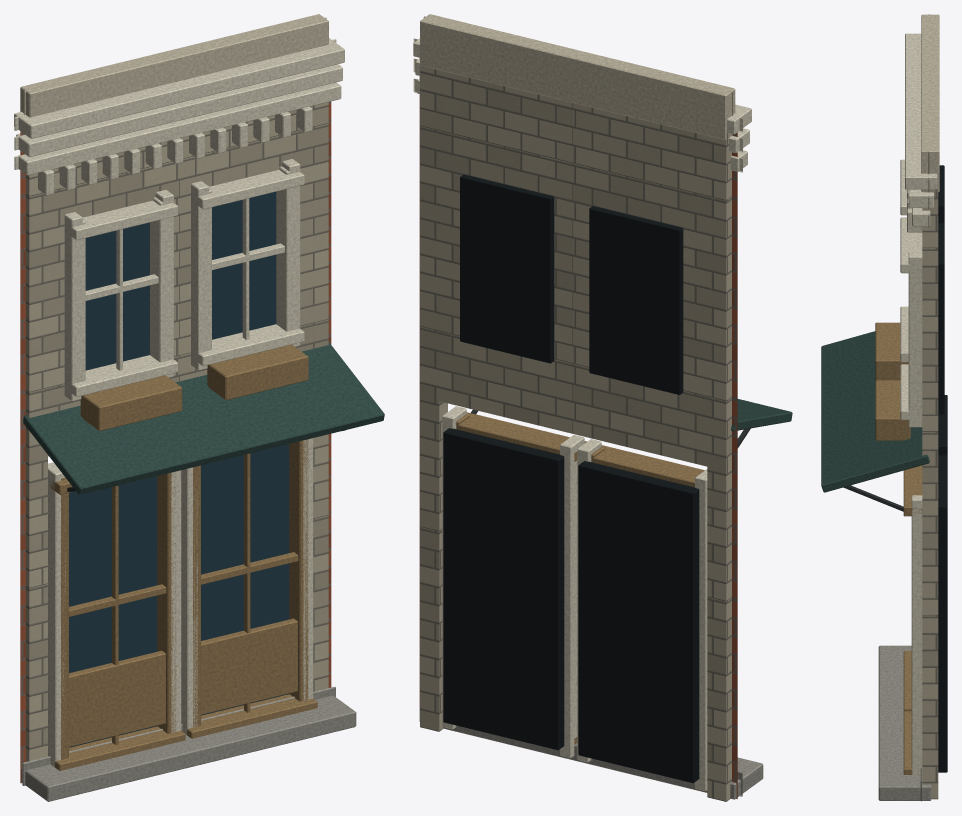
File: BUSS8_lod1.glb
3 renders of one model, left to right at view 1: azimuth 30°, elevation 25°; view 2: azimuth 150°, elevation 25°; view 3: azimuth 270°, elevation 25°, orthographic. The views are drawn at different scales.
Parts seen in each view (by area): view 1: BUSS8_FRONT_LOD1; view 2: BUSS8_FRONT_LOD1; view 3: BUSS8_FRONT_LOD1.
Part boxes in pixels (x1=…): BUSS8_FRONT_LOD1: x1=14, y1=14, x2=384, y2=801; BUSS8_FRONT_LOD1: x1=413, y1=14, x2=792, y2=801; BUSS8_FRONT_LOD1: x1=821, y1=14, x2=947, y2=801.
Bounding box in the file's own units: 3.44 × 7.05 × 1.25.
Materials: 11 (9 with a texture image).
